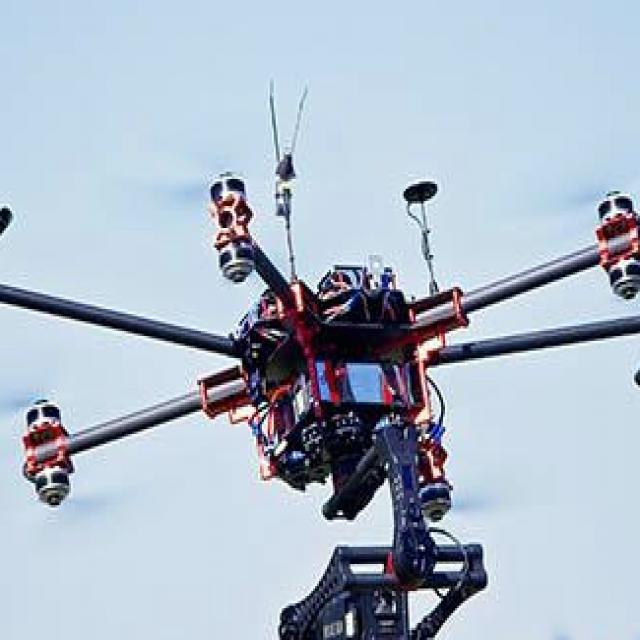drone: (0, 122, 640, 628)
